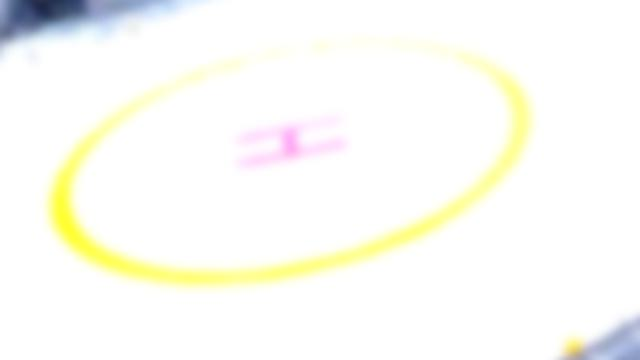Apron: (41, 21, 539, 289)
